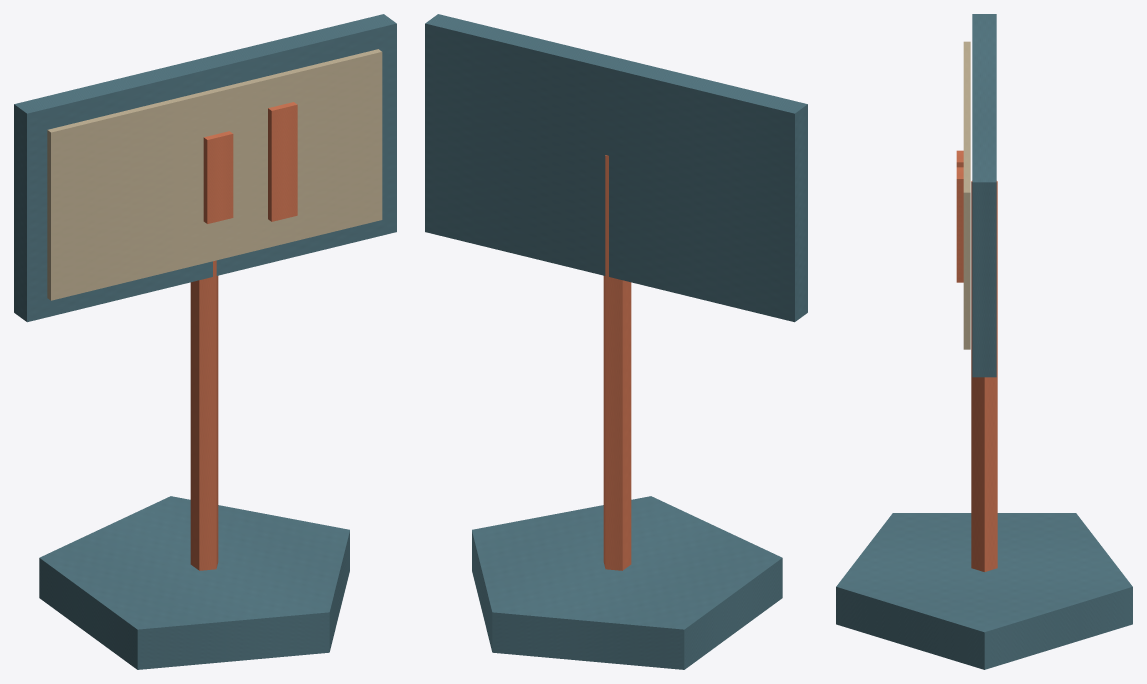
Rendered from atlas100-s042-a11.lod1.glb.
3 views of the same model, side by side, from view 1: azimuth 30°, elevation 25°; view 2: azimuth 150°, elevation 25°; view 3: azimuth 270°, elevation 25° (orthographic). The views are drawn at different scales.
Visible parts, largest first — view 1: atlas100-s042-a11:part-003, atlas100-s042-a11:part-000, atlas100-s042-a11:part-002, atlas100-s042-a11:part-001, atlas100-s042-a11:part-006, atlas100-s042-a11:part-005; view 2: atlas100-s042-a11:part-002, atlas100-s042-a11:part-000, atlas100-s042-a11:part-001; view 3: atlas100-s042-a11:part-000, atlas100-s042-a11:part-002, atlas100-s042-a11:part-001, atlas100-s042-a11:part-003, atlas100-s042-a11:part-006.
Boxes of the visible parts, x1,y1,x2,y2 form: atlas100-s042-a11:part-003: (47,49,382,300); atlas100-s042-a11:part-000: (39,496,349,669); atlas100-s042-a11:part-002: (14,14,396,322); atlas100-s042-a11:part-001: (190,260,218,570); atlas100-s042-a11:part-006: (268,102,297,221); atlas100-s042-a11:part-005: (203,131,233,223); atlas100-s042-a11:part-002: (425,14,807,322); atlas100-s042-a11:part-000: (472,496,782,669); atlas100-s042-a11:part-001: (603,155,631,570); atlas100-s042-a11:part-000: (836,513,1132,669); atlas100-s042-a11:part-002: (972,14,996,377); atlas100-s042-a11:part-001: (971,181,997,571); atlas100-s042-a11:part-003: (963,41,970,349); atlas100-s042-a11:part-006: (956,167,963,282).
Size of the model in its own units: 1.15 by 1.61 by 0.856.
Materials: 3 (3 with a texture image).
